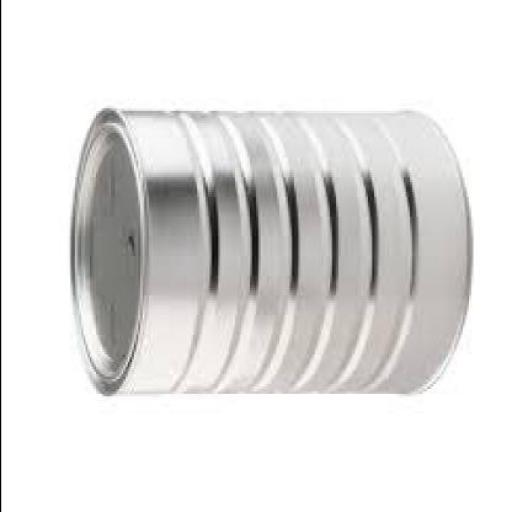metal: (67, 113, 468, 399)
